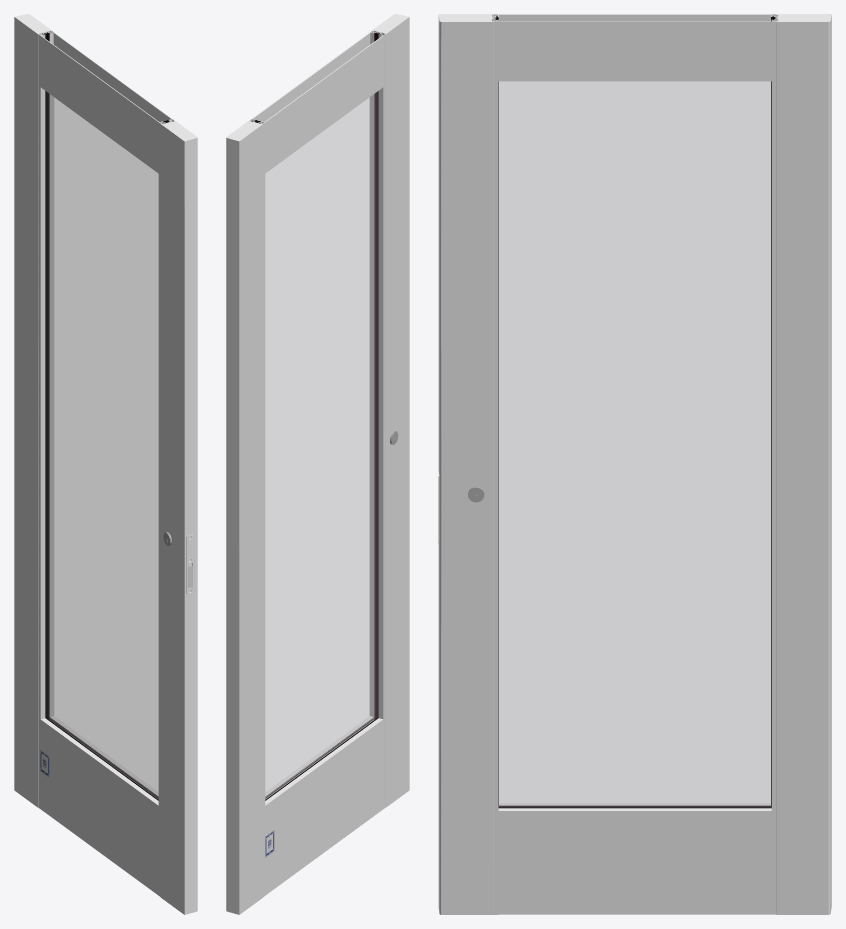
File: D500_Slab_WT.glb
3 renders of one model, left to right at view 1: azimuth 30°, elevation 25°; view 2: azimuth 150°, elevation 25°; view 3: azimuth 270°, elevation 25°, orthographic. The views are drawn at different scales.
Visible parts, largest first — view 1: Cube.011, PROFILE_curve_.067, D500, PROFILE_curve_.066, PROFILE_curve_.065, rubber_curve_.071, rubber_curve_.072, Cube.009; view 2: Cube.011, D500, PROFILE_curve_.067, PROFILE_curve_.066, PROFILE_curve_.065, rubber_curve_.069, rubber_curve_.070; view 3: Cube.011, D500, PROFILE_curve_.067, PROFILE_curve_.066, PROFILE_curve_.065, rubber_curve_.067.
Part boxes in pixels (<box>): Cube.011: <box>45,91,158,799</box>; PROFILE_curve_.067: <box>158,119,197,914</box>; D500: <box>14,14,54,808</box>; PROFILE_curve_.066: <box>40,716,158,895</box>; PROFILE_curve_.065: <box>40,32,171,173</box>; rubber_curve_.071: <box>46,32,49,719</box>; rubber_curve_.072: <box>43,33,46,717</box>; Cube.009: <box>186,534,194,594</box>; Cube.011: <box>265,91,378,799</box>; D500: <box>226,119,265,914</box>; PROFILE_curve_.067: <box>369,14,409,808</box>; PROFILE_curve_.066: <box>265,716,383,895</box>; PROFILE_curve_.065: <box>252,32,383,173</box>; rubber_curve_.069: <box>374,32,377,719</box>; rubber_curve_.070: <box>377,33,380,717</box>; Cube.011: <box>499,81,770,807</box>; D500: <box>771,14,831,914</box>; PROFILE_curve_.067: <box>438,14,498,914</box>; PROFILE_curve_.066: <box>498,803,771,914</box>; PROFILE_curve_.065: <box>498,14,771,81</box>; rubber_curve_.067: <box>499,805,770,807</box>.
Size of the model in its own units: 0.054 by 2.29 by 0.915.
7 materials, 1 textured.
